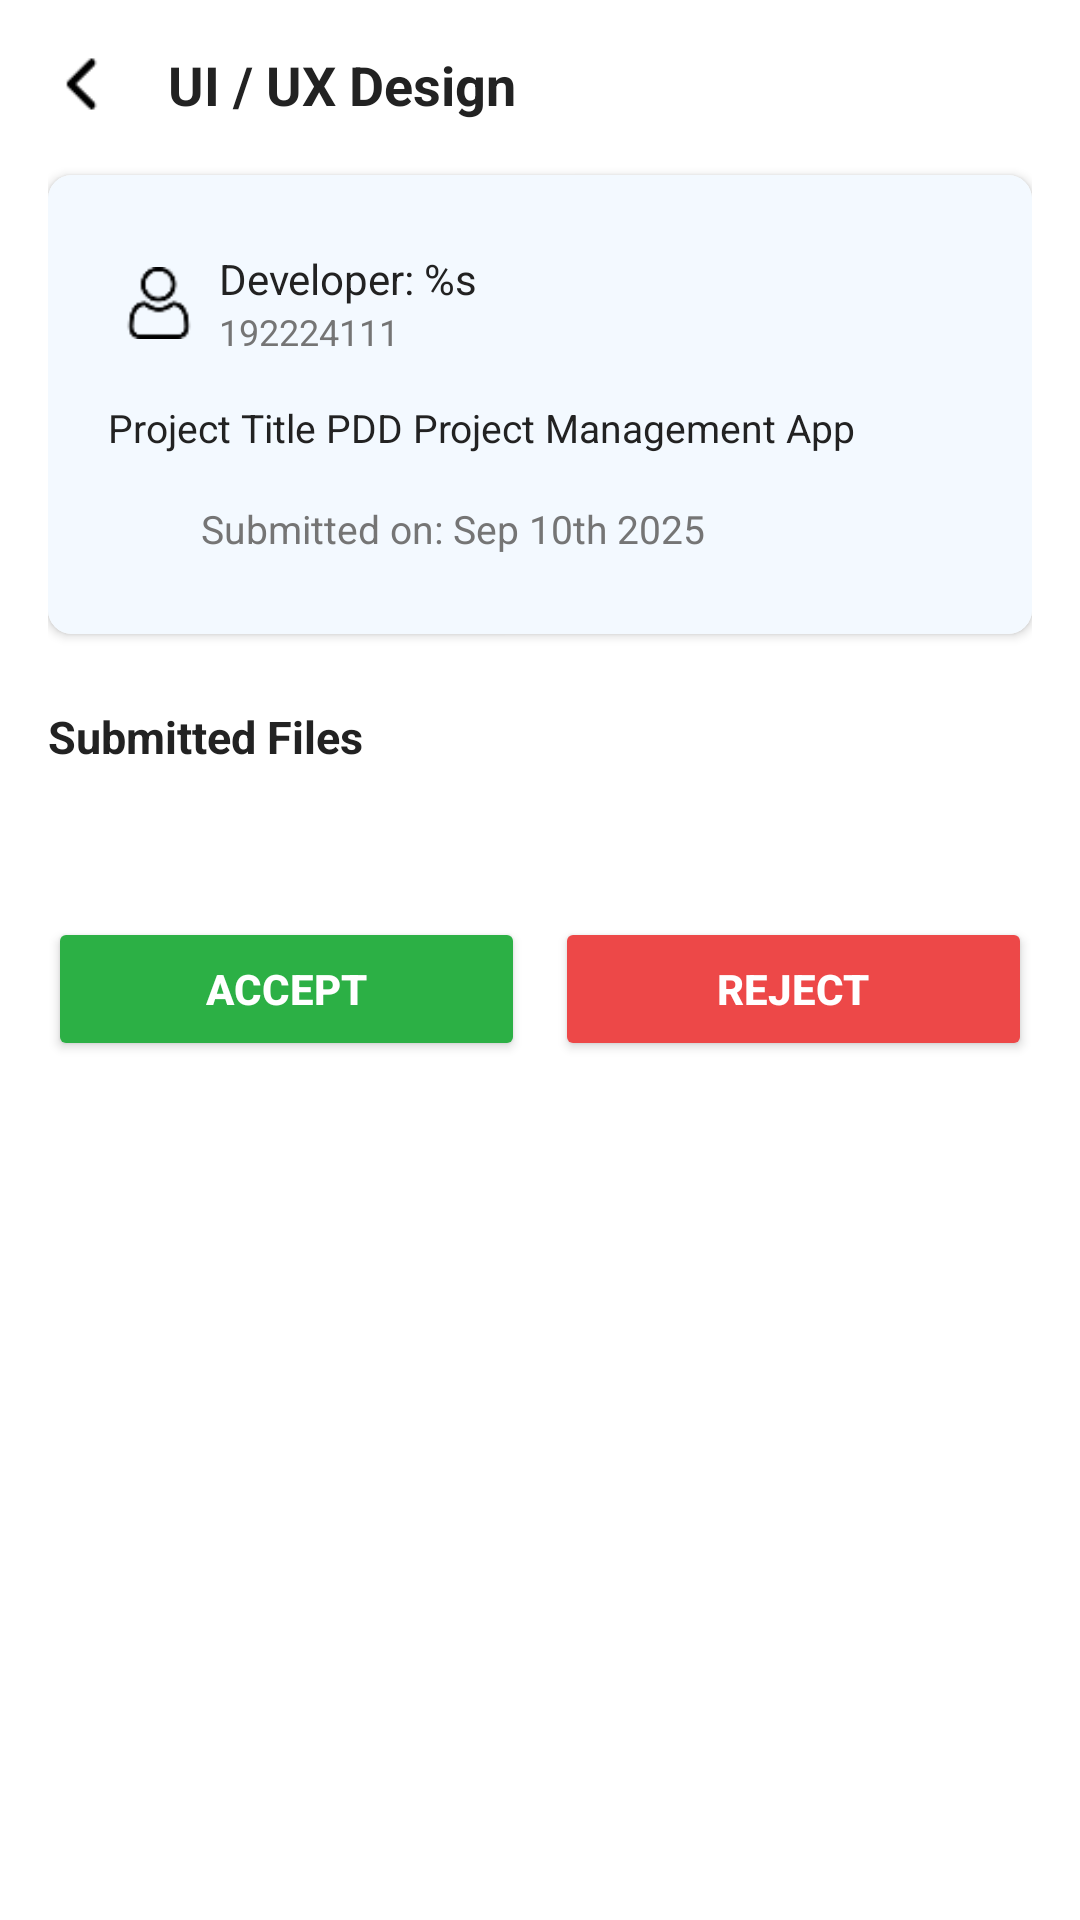

Icons on this 1080×1920 Android screen, each with the point to tap as (x,y):
Back arrow: (81,84)
